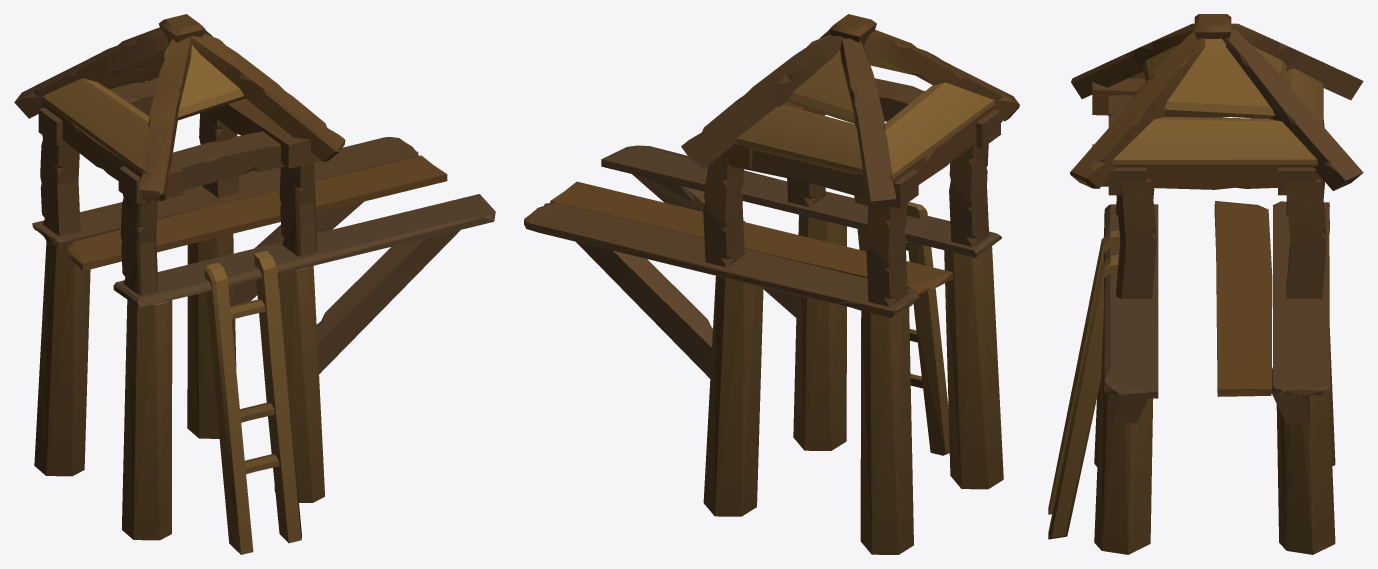
File: Tower1.fbx
The picture shows the model from 3 angles, left to right: view 1: azimuth 30°, elevation 25°; view 2: azimuth 150°, elevation 25°; view 3: azimuth 270°, elevation 25°; orthographic projection. The views are drawn at different scales.
Parts seen in each view (by area): view 1: TowerFix.001; view 2: TowerFix.001; view 3: TowerFix.001.
Boxes of the visible parts, x1,y1,x2,y2 form: TowerFix.001: (14, 14, 495, 554); TowerFix.001: (524, 14, 1019, 554); TowerFix.001: (1048, 14, 1363, 554).
Size of the model in its own units: 694 by 831 by 476.
